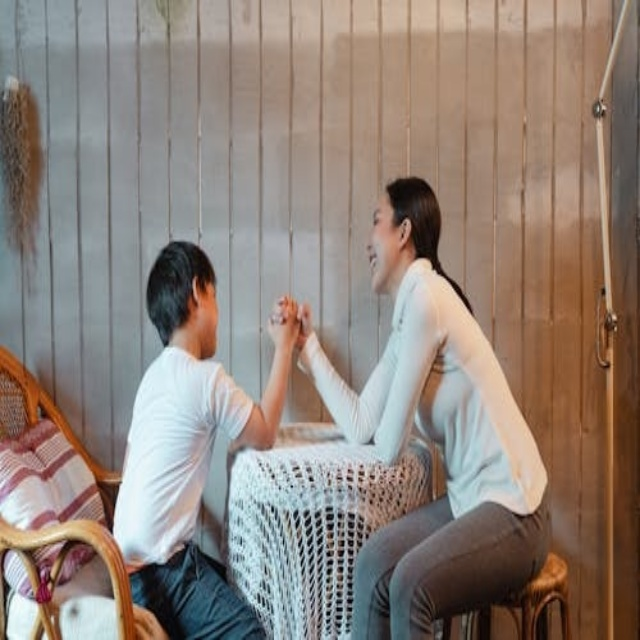Sin_gafas: (370, 203, 394, 230)
Sin_guantes: (266, 297, 304, 353)
Sin_mascara: (362, 242, 383, 289)
